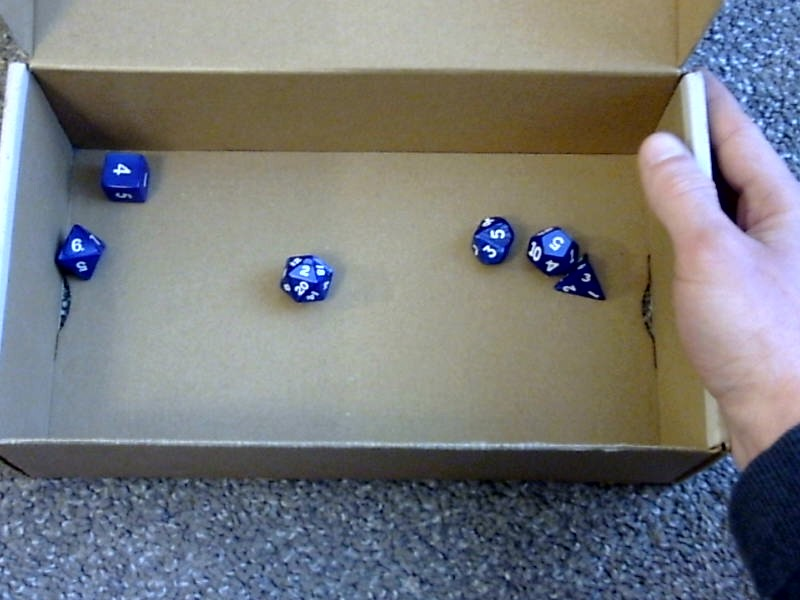d10 5: (467, 211, 516, 269)
d12 5: (526, 218, 582, 277)
d20 2: (279, 249, 333, 305)
d4 3: (554, 249, 610, 301)
d6 4: (96, 145, 150, 208)
d8 6: (48, 217, 105, 285)
